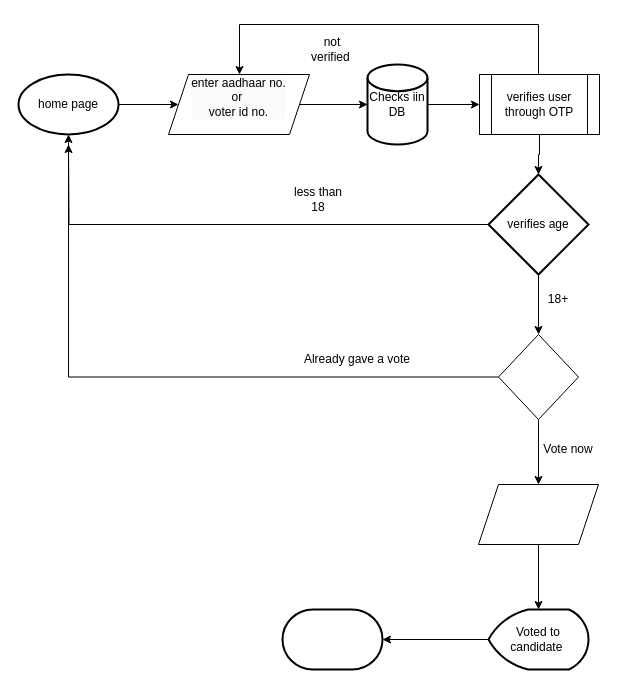
Some shapes in this 617 by 688 pixel diagram are drawn without their labels. The centre of each missing label's shape, as x and y in pixels:
"cast vote" belongs at [538,514].
"checks vote status" belongs at [538,377].
"Stop" belongs at [332,639].
